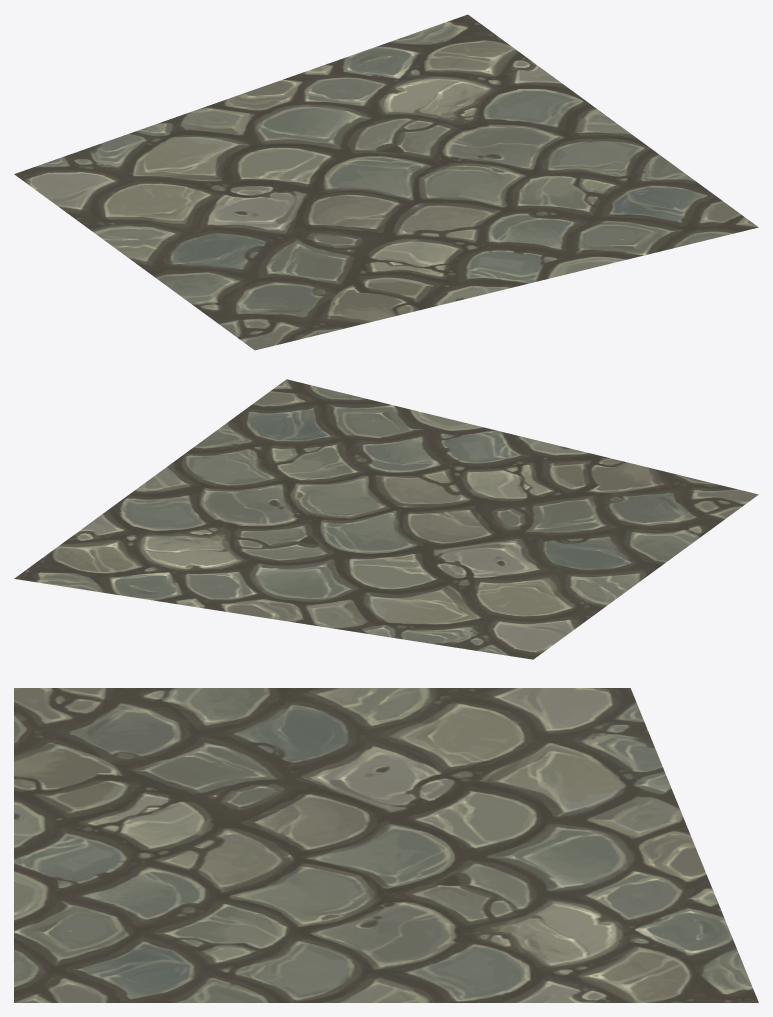
File: floor_longcurve4.fbx
3 renders of one model, top to bottom at view 1: azimuth 30°, elevation 25°; view 2: azimuth 150°, elevation 25°; view 3: azimuth 270°, elevation 25°, orthographic. The views are drawn at different scales.
Parts seen in each view (by area): view 1: round_tl_4; view 2: round_tl_4; view 3: round_tl_4.
Part boxes in pixels (x1=…): round_tl_4: x1=14, y1=14, x2=758, y2=350; round_tl_4: x1=14, y1=379, x2=758, y2=659; round_tl_4: x1=14, y1=688, x2=758, y2=1002.
Bounding box in the file's own units: 2 × 4.44e-16 × 2.
